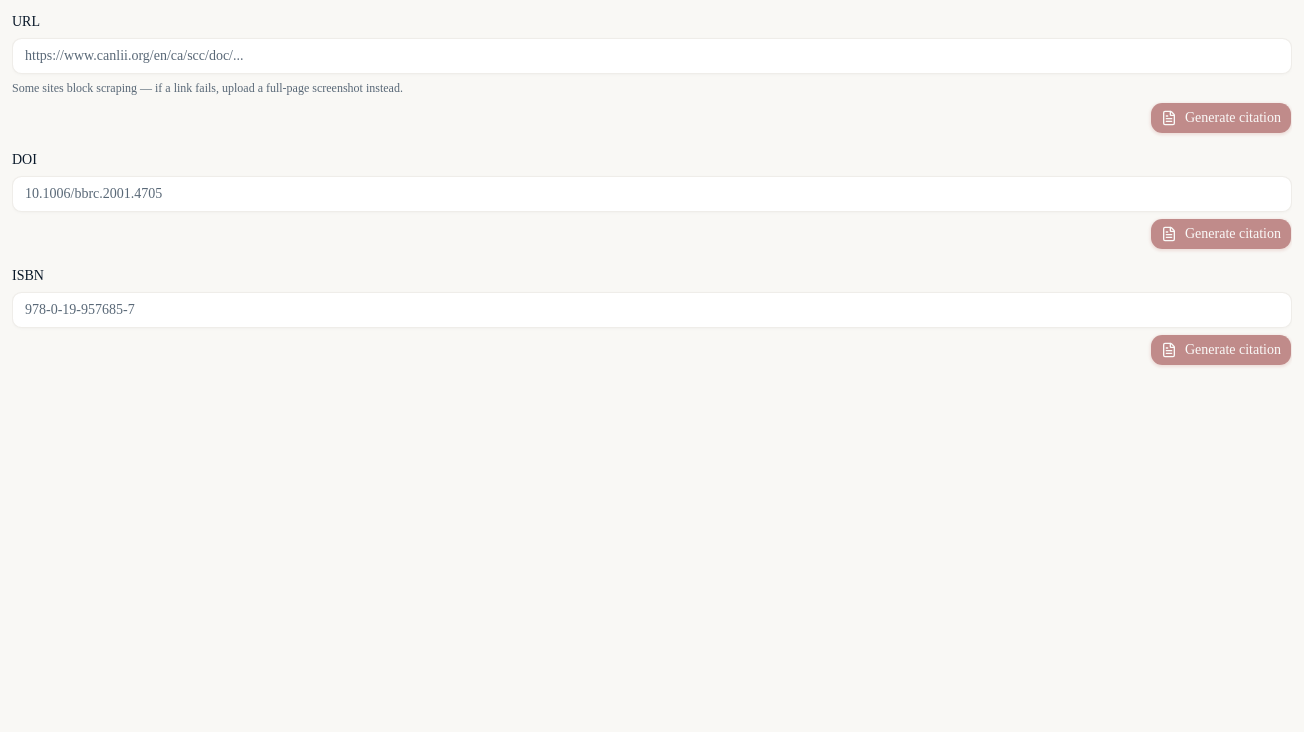
Scenario: Tab 3 — independent per-source buttons › done response renders citation result
Type "https://example.com" into the field labelled "URL" at (652, 56), box left=12, top=38, right=1292, bottom=74
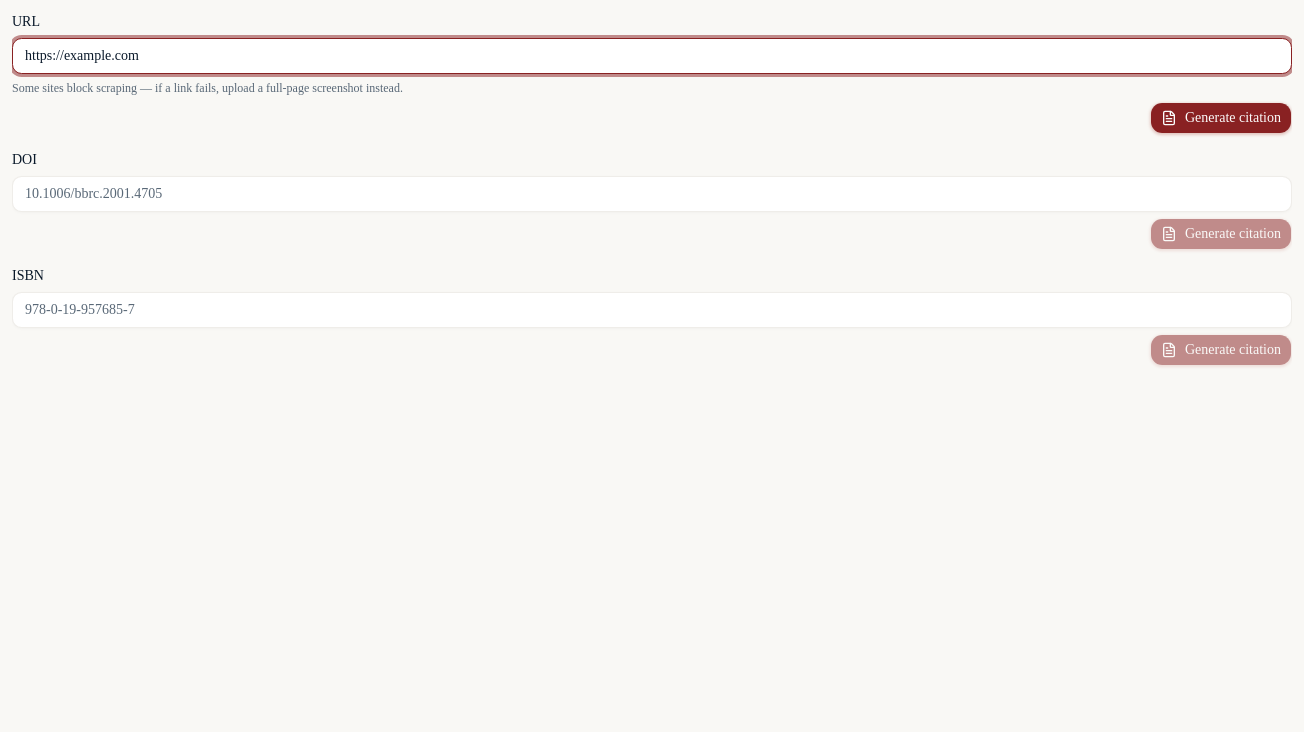
Click the 1st button "Generate citation" at (1221, 118), box left=1150, top=102, right=1292, bottom=134
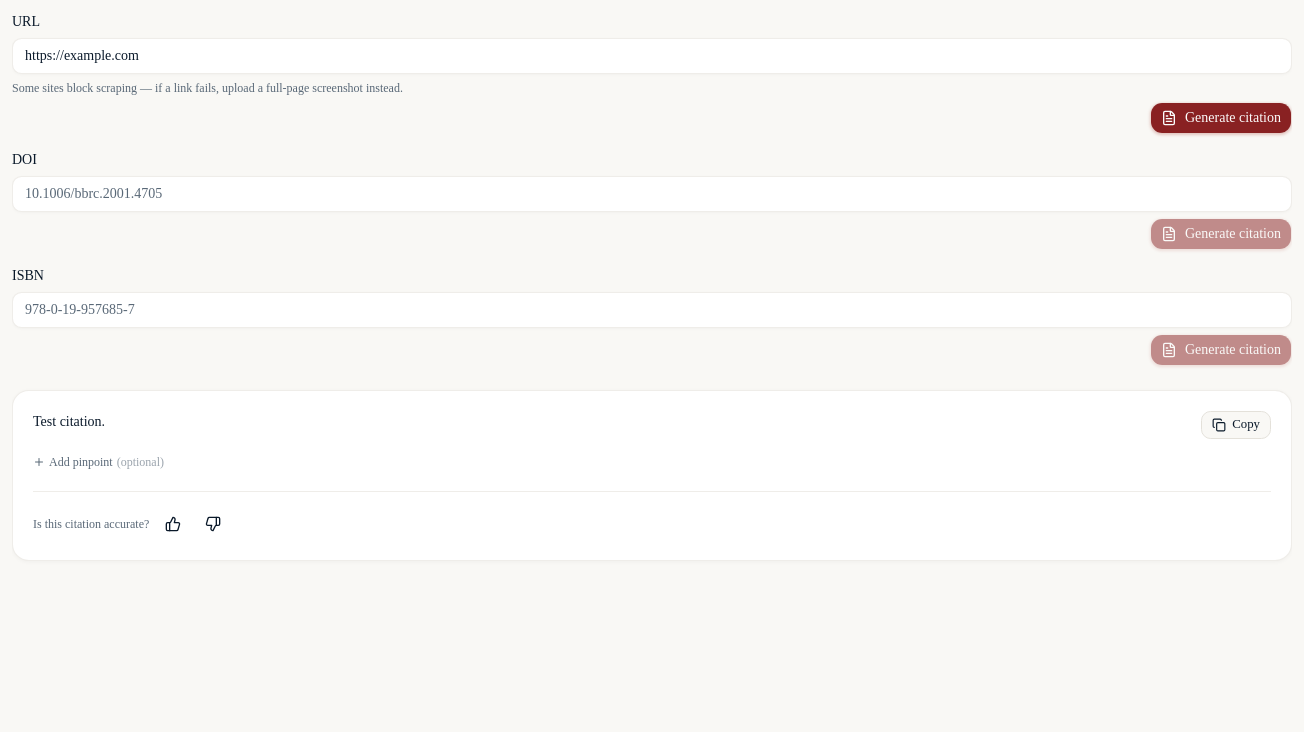
Check: the text "Test citation." is shown, box left=33, top=414, right=105, bottom=429
